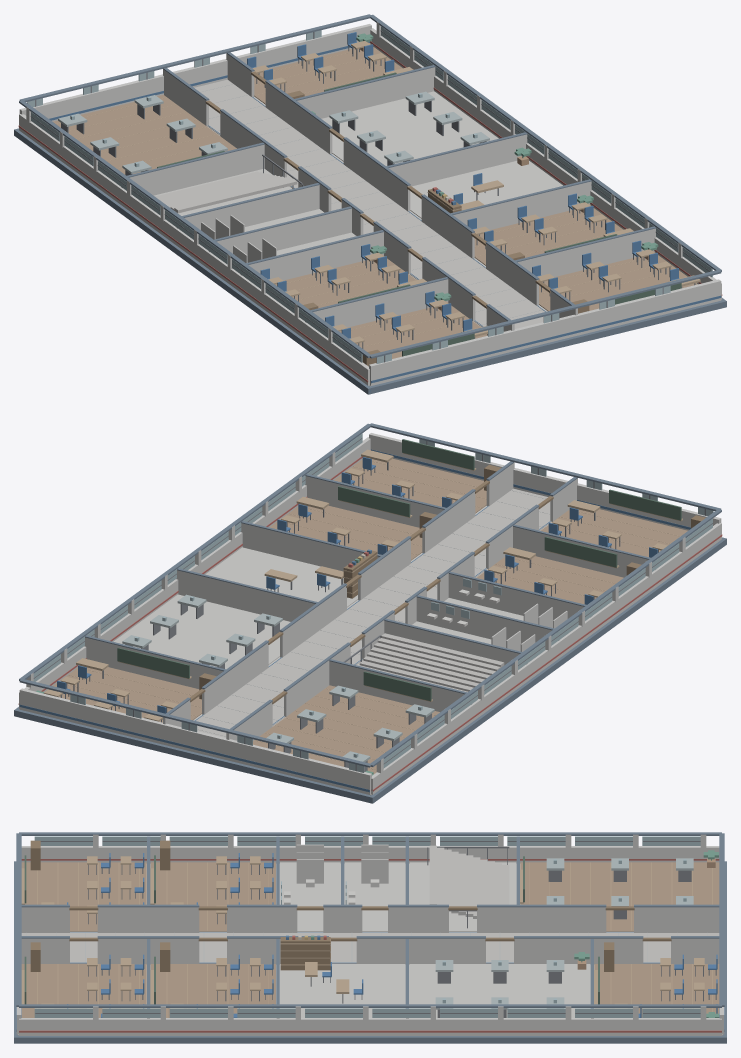
Rendered from pavimento_2_CONCEITUAL.glb.
3 renders of one model, top to bottom at view 1: azimuth 30°, elevation 25°; view 2: azimuth 150°, elevation 25°; view 3: azimuth 270°, elevation 25°, orthographic.
Visible parts, largest first — view 1: world; view 2: world; view 3: world.
Boxes of the visible parts, x1,y1,x2,y2 form: world: [14, 14, 726, 394]; world: [14, 423, 726, 803]; world: [14, 832, 726, 1043].
Size of the model in its own units: 22.55 by 2.38 by 38.55.
